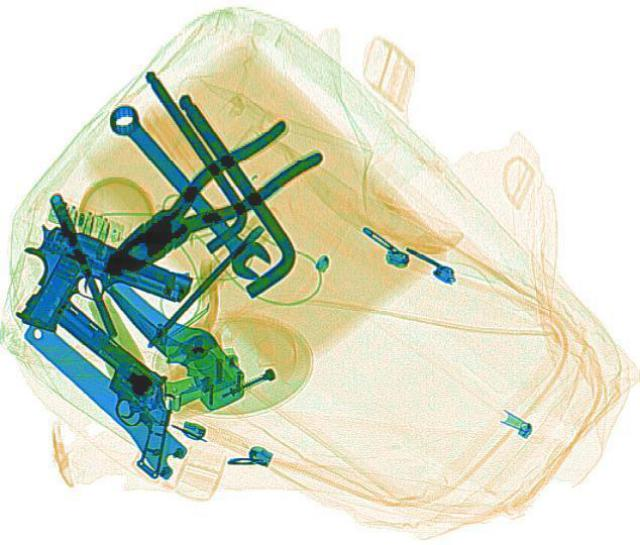Gun: (0, 300, 227, 481), (0, 218, 200, 365)
Pliers: (88, 113, 326, 294)
Wrench: (92, 100, 278, 283)
